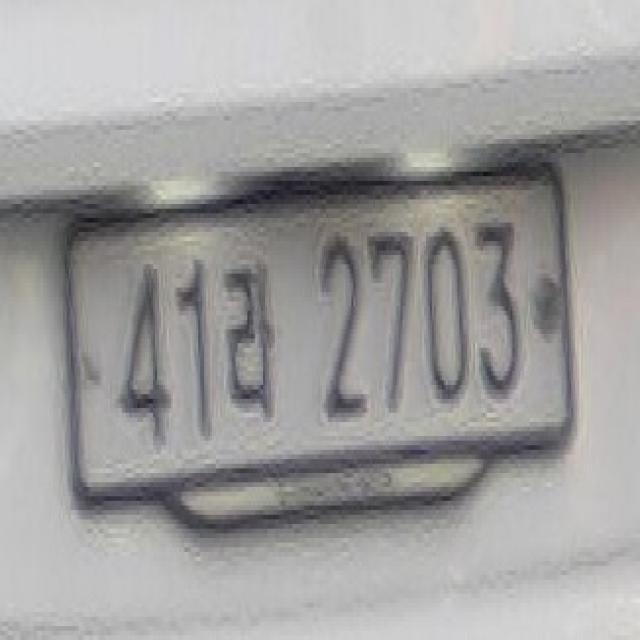0: (424, 218, 469, 408)
1: (175, 255, 214, 441)
2: (316, 232, 365, 422)
3: (471, 204, 522, 408)
4: (118, 269, 171, 445)
7: (369, 222, 416, 412)
la: (220, 250, 275, 432)
license_plate: (65, 158, 571, 501)
